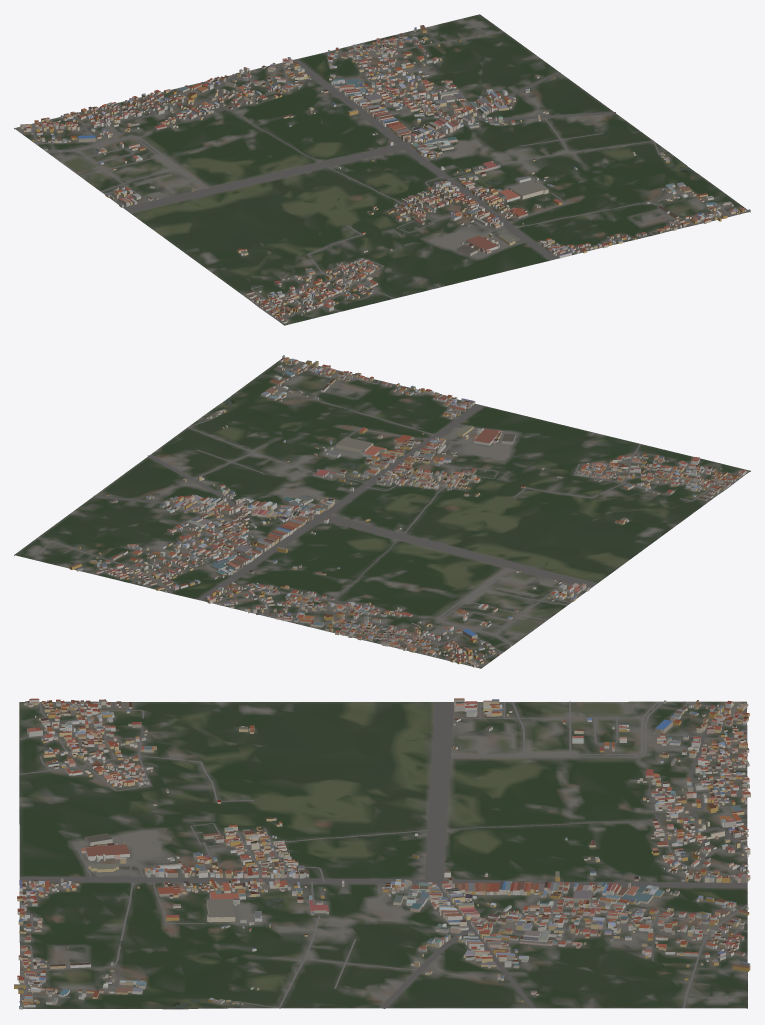
3 views of the same model, one above another, from view 1: azimuth 30°, elevation 25°; view 2: azimuth 150°, elevation 25°; view 3: azimuth 270°, elevation 25° (orthographic). The views are drawn at different scales.
Visible parts, largest first — view 1: ground, buildings, roads; view 2: ground, buildings, roads; view 3: ground, buildings, roads.
Boxes of the visible parts, left/top/right/bottom form: ground: left=14, top=14, right=748, bottom=325; buildings: left=20, top=25, right=750, bottom=323; roads: left=31, top=21, right=748, bottom=319; ground: left=14, top=358, right=750, bottom=668; buildings: left=69, top=355, right=747, bottom=667; roads: left=28, top=358, right=743, bottom=666; ground: left=19, top=701, right=747, bottom=1009; buildings: left=14, top=698, right=750, bottom=1009; roads: left=19, top=701, right=748, bottom=1008.
Bounding box in the file's own units: 1404 × 18.86 × 1419.
